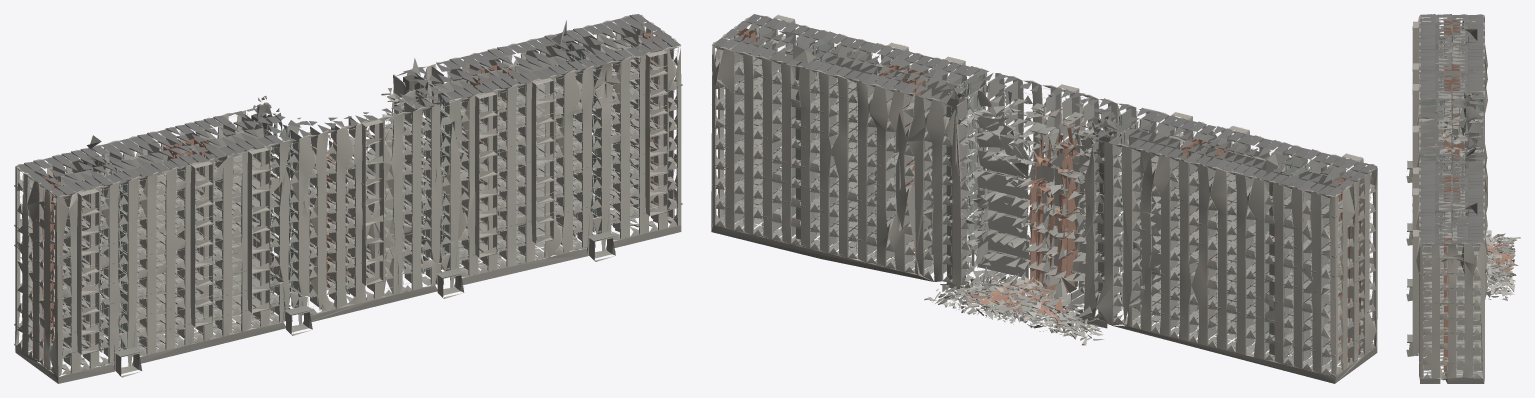
File: b1_ruin_lod1.glb
The picture shows the model from 3 angles, left to right: view 1: azimuth 30°, elevation 25°; view 2: azimuth 150°, elevation 25°; view 3: azimuth 270°, elevation 25°; orthographic projection. The views are drawn at different scales.
Parts seen in each view (by area): view 1: b1_lod1__facade_panel, b1_lod1__wall_room, b1_lod1__slab_top, b1_lod1__roof, b1_lod1__slab_edge, b1_lod1__window_frame, b1_lod1__stairwell_wall, b1_lod1__plinth, b1_lod1__monolith, b1_lod1__concrete; view 2: b1_lod1__facade_panel, b1_lod1__wall_room, b1_lod1__slab_top, b1_lod1__roof, b1_lod1__slab_edge, b1_lod1__concrete, b1_lod1__stairwell_wall, b1_lod1__plinth, b1_lod1__window_frame, b1_lod1__slab_under; view 3: b1_lod1__facade_panel, b1_lod1__roof, b1_lod1__wall_room, b1_lod1__slab_top, b1_lod1__slab_edge, b1_lod1__stairwell_wall, b1_lod1__concrete, b1_lod1__slab_under, b1_lod1__monolith, b1_lod1__window_frame, b1_lod1__plinth.
Part boxes in pixels (box(x1,y1,x2,y2)): b1_lod1__facade_panel: box(15, 14, 681, 377); b1_lod1__wall_room: box(15, 15, 677, 365); b1_lod1__slab_top: box(14, 35, 681, 371); b1_lod1__roof: box(16, 14, 680, 197); b1_lod1__slab_edge: box(14, 15, 682, 370); b1_lod1__window_frame: box(17, 23, 678, 373); b1_lod1__stairwell_wall: box(73, 31, 606, 361); b1_lod1__plinth: box(15, 225, 681, 383); b1_lod1__monolith: box(114, 231, 616, 377); b1_lod1__concrete: box(80, 20, 573, 195); b1_lod1__facade_panel: box(711, 15, 1377, 376); b1_lod1__wall_room: box(711, 16, 1377, 366); b1_lod1__slab_top: box(711, 35, 1374, 375); b1_lod1__roof: box(712, 14, 1377, 308); b1_lod1__slab_edge: box(712, 17, 1375, 376); b1_lod1__concrete: box(793, 44, 1289, 357); b1_lod1__stairwell_wall: box(788, 35, 1324, 351); b1_lod1__plinth: box(711, 224, 1377, 383); b1_lod1__window_frame: box(715, 14, 1374, 367); b1_lod1__slab_under: box(925, 96, 1103, 340); b1_lod1__facade_panel: box(1412, 14, 1520, 378); b1_lod1__roof: box(1419, 14, 1516, 297); b1_lod1__wall_room: box(1418, 14, 1518, 373); b1_lod1__slab_top: box(1419, 31, 1515, 377); b1_lod1__slab_edge: box(1419, 15, 1516, 374); b1_lod1__stairwell_wall: box(1420, 35, 1497, 341); b1_lod1__concrete: box(1463, 24, 1508, 239); b1_lod1__slab_under: box(1434, 104, 1515, 299); b1_lod1__monolith: box(1406, 160, 1413, 356); b1_lod1__window_frame: box(1406, 18, 1500, 372); b1_lod1__plinth: box(1419, 377, 1484, 383).
Bounding box in the file's own units: 100 × 30.94 × 20.91.
